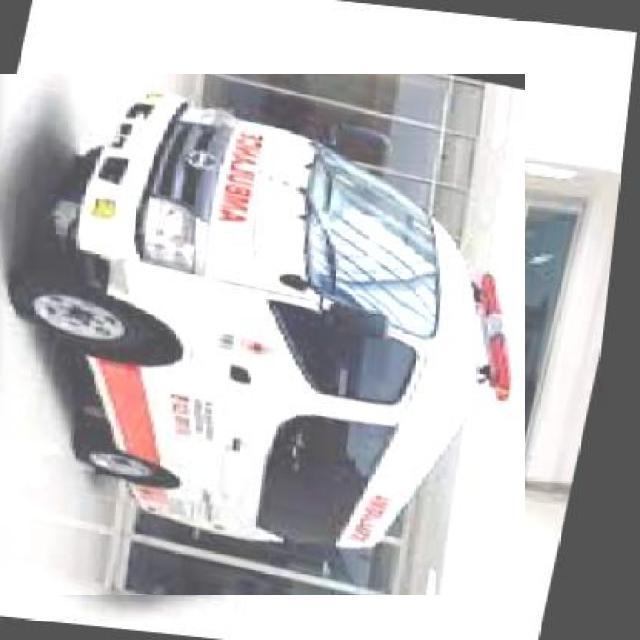emergency-vehicle: (0, 72, 523, 596)
